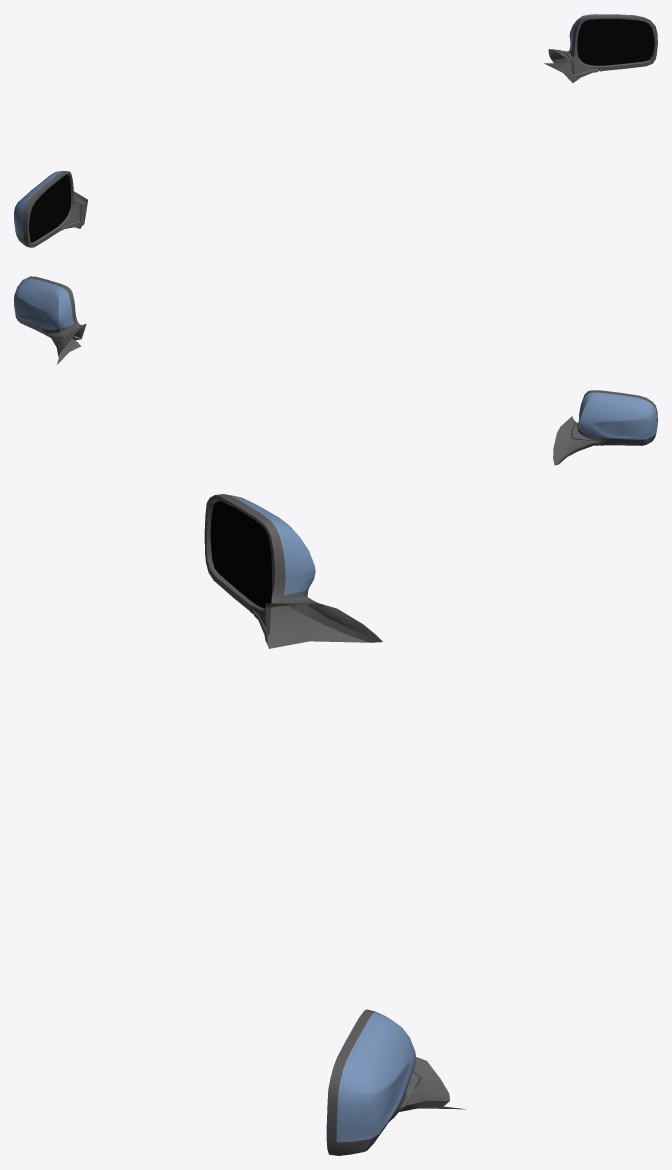
File: orvms.fbx
The picture shows the model from 3 angles, top to bottom: view 1: azimuth 30°, elevation 25°; view 2: azimuth 150°, elevation 25°; view 3: azimuth 270°, elevation 25°; orthographic projection. The views are drawn at different scales.
Parts seen in each view (by area): view 1: door_lf_ok_002.004, Car Body.009; view 2: Car Body.009, door_lf_ok_002.004; view 3: Car Body.009, door_lf_ok_002.004.
Part boxes in pixels (<box>): door_lf_ok_002.004: <box>544,14,657,82</box>; Car Body.009: <box>14,171,87,247</box>; Car Body.009: <box>553,390,657,465</box>; door_lf_ok_002.004: <box>14,276,86,364</box>; Car Body.009: <box>204,494,382,648</box>; door_lf_ok_002.004: <box>326,1009,465,1155</box>.
Size of the model in its own units: 298 by 26.38 by 55.76.
